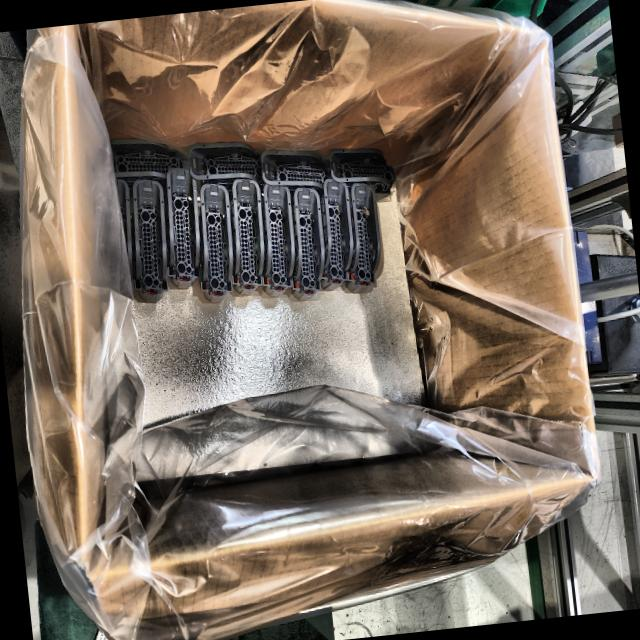P38: (131, 178, 166, 304), (198, 182, 233, 304), (165, 167, 199, 290), (344, 181, 380, 294), (230, 178, 263, 295), (290, 186, 323, 300), (319, 177, 352, 290), (261, 184, 294, 297), (327, 148, 395, 201), (108, 138, 187, 178), (186, 142, 260, 182), (259, 148, 328, 187), (114, 177, 133, 292)
